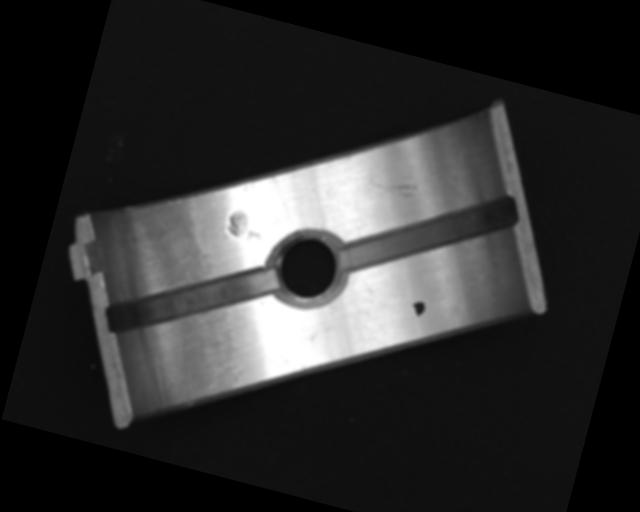blot: (409, 299, 427, 318)
bruise: (223, 206, 268, 245)
gap: (339, 159, 520, 309), (104, 233, 280, 368)
hole: (262, 221, 351, 316)
nick: (364, 171, 419, 201)
